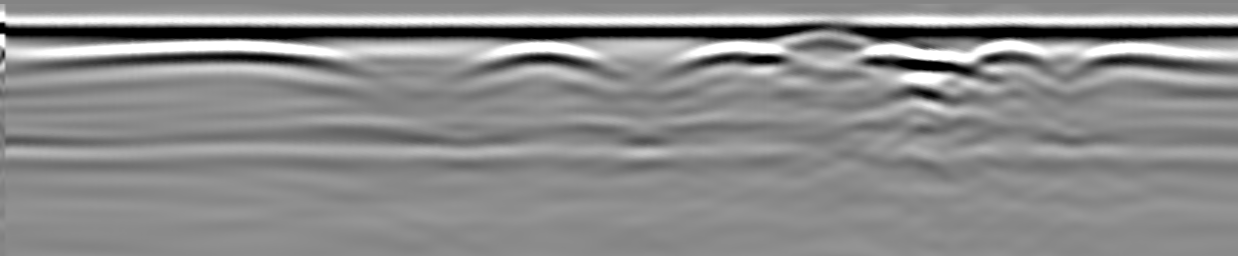pipe: (763, 22, 889, 47)
steel: (9, 40, 340, 68), (861, 44, 1051, 73), (1085, 43, 1238, 71), (469, 42, 610, 71), (680, 42, 781, 65)
